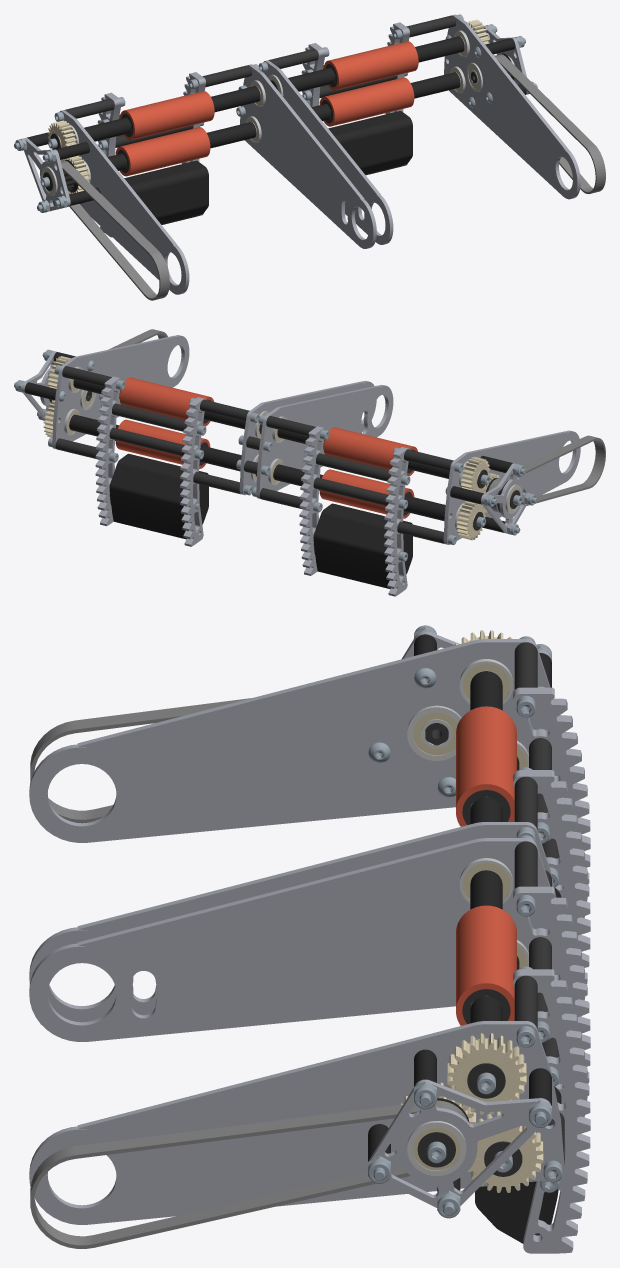
3 renders of one model, top to bottom at view 1: azimuth 30°, elevation 25°; view 2: azimuth 150°, elevation 25°; view 3: azimuth 270°, elevation 25°, orthographic. The views are drawn at different scales.
Visible parts, largest first — view 1: Sushi Roller (40A, 1/2" Hex Bore) (×12), Part 9, Part 3, Part 7, 80T HTD Belt (×2), Part 63 (×6), Part 17, Part 22, Part 5, Part 54 (×4), Part 34, Spur gear (164 teeth) (×2) (+5 smaller); view 2: Sushi Roller (40A, 1/2" Hex Bore) (×12), Part 22, Part 9, Part 17, Part 3, Spur gear (164 teeth) (×2), Part 54 (×8), Part 7, Part 55 (×4), Part 10, Part 63 (×4), Part 12 (+6 smaller); view 3: Part 5, Part 7, Part 3, Spur gear (164 teeth) (×2), 80T HTD Belt (×2), Sushi Roller (40A, 1/2" Hex Bore) (×6), Part 9, Part 32, 3/8" Rounded Hex (10.25mm) ID Bearing (0.875" OD, 0.281" WD, (×4), 24t Aluminum Spur Gear (20 DP, 3/8" Hex Bore) (×2), Part 12, Part 10 (+4 smaller).
Part boxes in pixels (x1,y1,x2,y2): Sushi Roller (40A, 1/2" Hex Bore) (×12): (115,41,418,176); Part 9: (240,64,376,248); Part 3: (444,14,580,199); Part 7: (59,110,189,294); 80T HTD Belt (×2): (61,54,605,300); Part 63 (×6): (84,36,464,148); Part 17: (124,160,208,224); Part 22: (328,111,412,175); Part 5: (263,60,393,244); Part 54 (×4): (65,15,455,118); Part 34: (24,137,70,211); Spur gear (164 teeth) (×2): (97,22,409,237); Sushi Roller (40A, 1/2" Hex Bore) (×12): (115,377,417,518); Part 22: (109,453,208,539); Part 9: (256,385,393,498); Part 17: (313,503,412,588); Part 3: (52,335,189,449); Spur gear (164 teeth) (×2): (95,376,409,596); Part 54 (×8): (55,366,453,543); Part 7: (443,430,580,544); Part 55 (×4): (109,403,391,505); Part 10: (180,397,205,546); Part 63 (×4): (69,414,445,520); Part 12: (299,426,325,575); Part 5: (29,838,559,1041); Part 7: (29,639,559,842); Part 3: (29,1021,564,1224); Spur gear (164 teeth) (×2): (513,687,590,1253); 80T HTD Belt (×2): (30,698,467,1248); Sushi Roller (40A, 1/2" Hex Bore) (×6): (456,706,516,1025); Part 9: (29,822,556,1022); Part 32: (368,1079,551,1207); 3/8" Rounded Hex (10.25mm) ID Bearing (0.875" OD, 0.281" WD, (×4): (407,659,513,1176); 24t Aluminum Spur Gear (20 DP, 3/8" Hex Bore) (×2): (447,1033,543,1192); Part 12: (513,770,590,1016); Part 10: (513,886,590,1154).
Bounding box in the file's own units: 0.4604 × 0.1271 × 0.2327.
